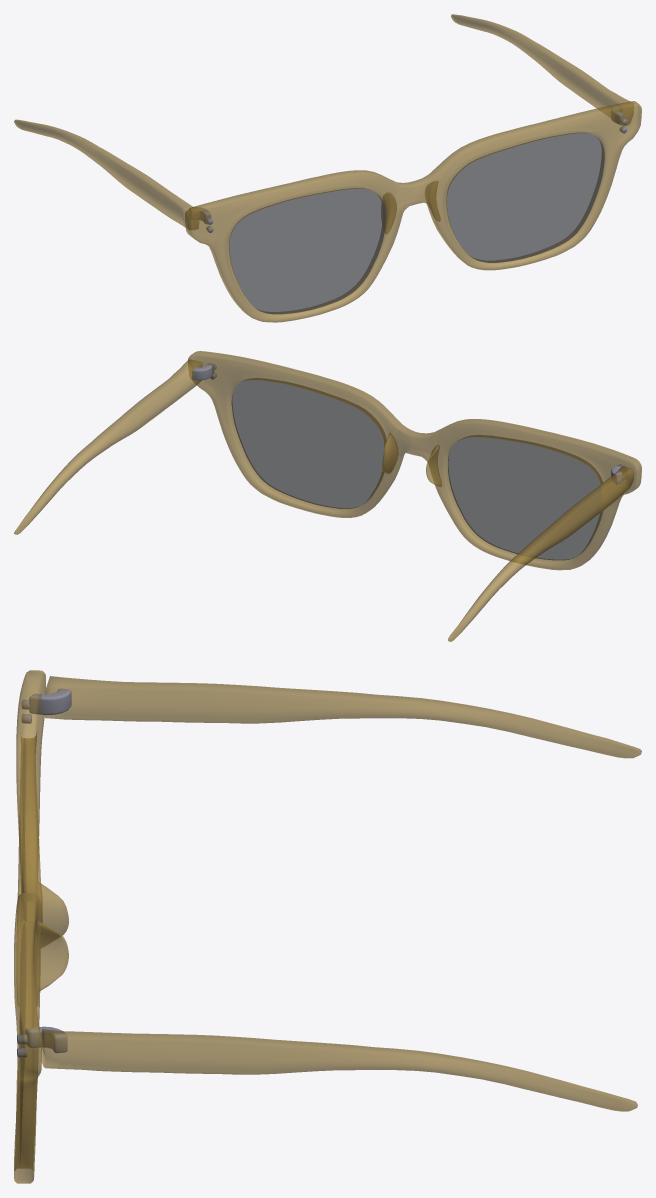
3 renders of one model, top to bottom at view 1: azimuth 30°, elevation 25°; view 2: azimuth 150°, elevation 25°; view 3: azimuth 270°, elevation 25°, orthographic. The views are drawn at different scales.
Parts seen in each view (by area): view 1: model 5.002; view 2: model 5.002; view 3: model 5.002.
Boxes of the visible parts, box(x1,y1,x2,y2) form: model 5.002: box(14, 14, 641, 322); model 5.002: box(14, 351, 641, 641); model 5.002: box(14, 670, 641, 1183).
Bounding box in the file's own units: 3.59 × 1.03 × 2.59.
